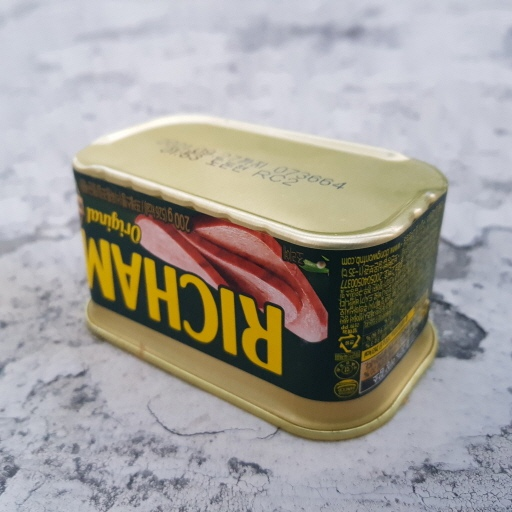Metal_2: (69, 110, 450, 443)
